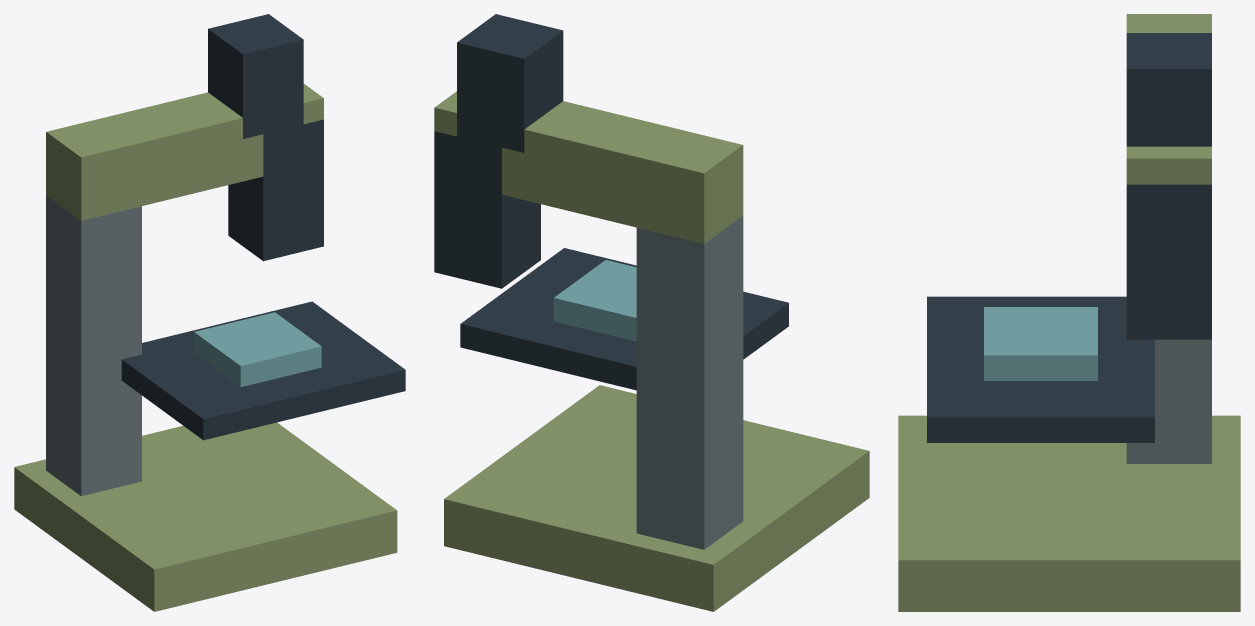
Rendered from biotech-04.glb.
3 renders of one model, left to right at view 1: azimuth 30°, elevation 25°; view 2: azimuth 150°, elevation 25°; view 3: azimuth 270°, elevation 25°, orthographic. The views are drawn at different scales.
Parts seen in each view (by area): view 1: Sample microscope; view 2: Sample microscope; view 3: Sample microscope.
Boxes of the visible parts, box(x1,y1,x2,y2) form: Sample microscope: box(14, 14, 405, 611); Sample microscope: box(434, 14, 869, 611); Sample microscope: box(898, 14, 1240, 611).
Bounding box in the file's own units: 1.04 × 1.68 × 0.96.
